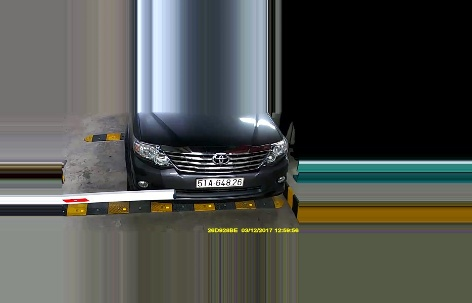plate: (195, 174, 245, 189)
